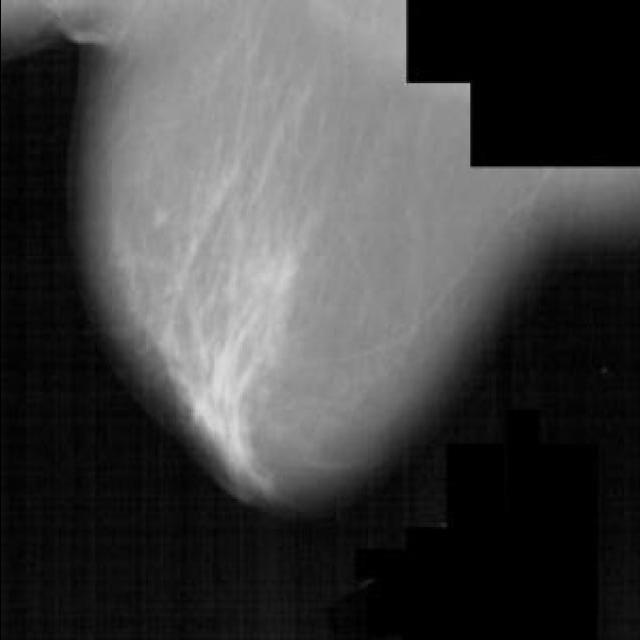tumor: (178, 237, 311, 467)
